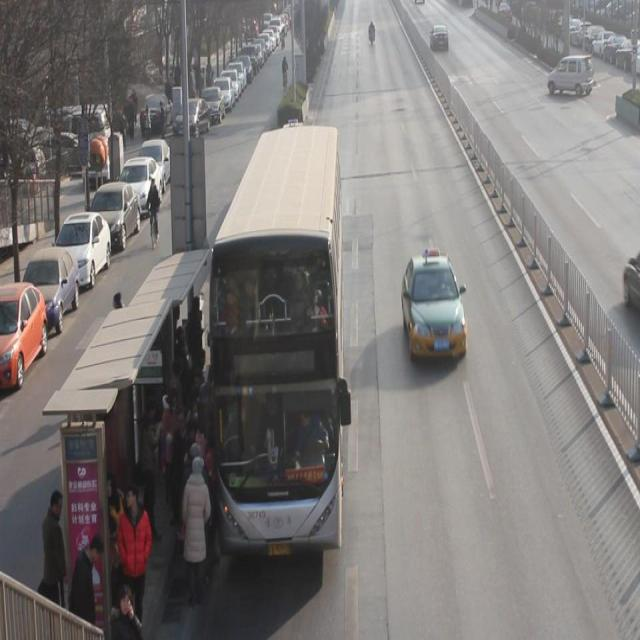car: (402, 250, 469, 365), (429, 24, 450, 55)
truck: (547, 54, 593, 99)
van: (209, 126, 342, 554)
